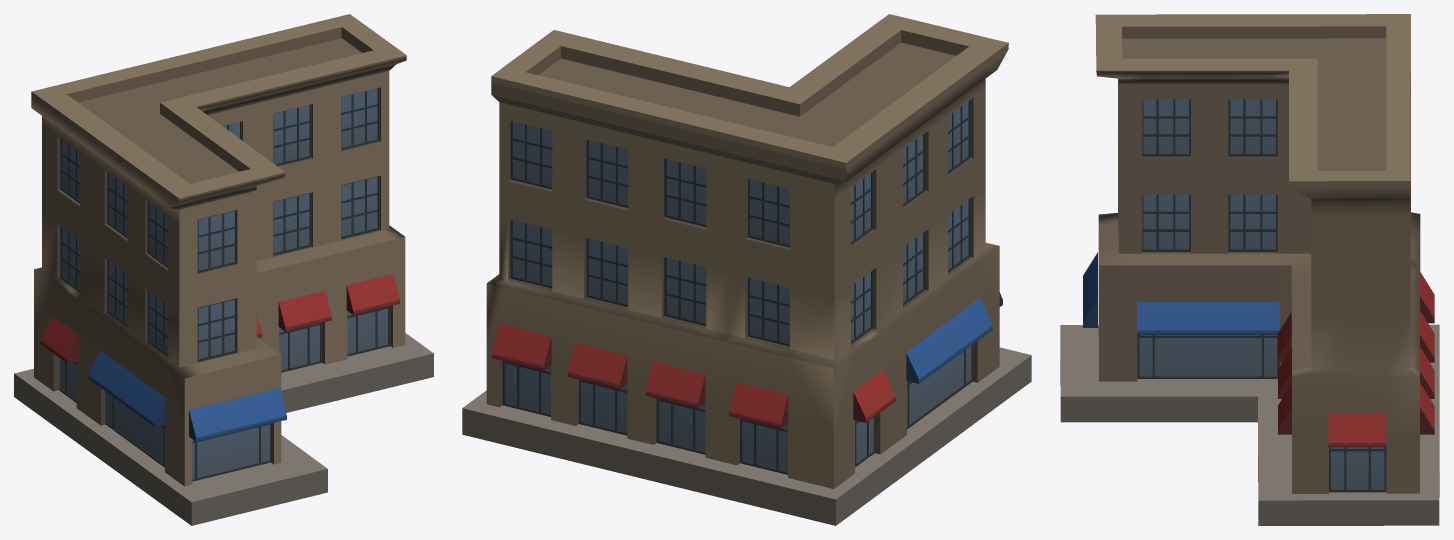
File: Business_CommercialBuilding_alt02.glb
The picture shows the model from 3 angles, left to right: view 1: azimuth 30°, elevation 25°; view 2: azimuth 150°, elevation 25°; view 3: azimuth 270°, elevation 25°; orthographic projection. The views are drawn at different scales.
Parts seen in each view (by area): view 1: base.076, windowRefl.058, color.005; view 2: base.076, windowRefl.058, color.005; view 3: base.076, windowRefl.058, color.005.
Part boxes in pixels (x1=…): base.076: x1=14, y1=14, x2=433, y2=525; windowRefl.058: x1=60, y1=88, x2=388, y2=479; color.005: x1=40, y1=274, x2=399, y2=441; base.076: x1=462, y1=14, x2=1031, y2=525; windowRefl.058: x1=505, y1=101, x2=971, y2=472; color.005: x1=492, y1=292, x2=1002, y2=428; base.076: x1=1060, y1=14, x2=1439, y2=525; windowRefl.058: x1=1139, y1=99, x2=1384, y2=489; color.005: x1=1083, y1=252, x2=1434, y2=447.
Size of the model in its own units: 23.36 by 20.92 by 21.28.
